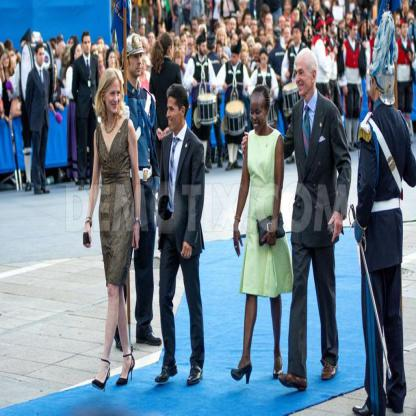face: (296, 62, 313, 96), (251, 98, 267, 132), (106, 80, 121, 114), (168, 97, 182, 132), (129, 53, 144, 77), (84, 36, 91, 54), (109, 52, 116, 67), (149, 33, 156, 48), (181, 35, 188, 50), (219, 30, 226, 45), (169, 43, 175, 60), (38, 50, 45, 64), (200, 42, 207, 56), (294, 30, 301, 44), (10, 51, 16, 67), (245, 15, 252, 28), (352, 25, 359, 38), (306, 29, 313, 42), (231, 18, 237, 33), (76, 47, 82, 61), (52, 64, 58, 78), (4, 54, 10, 68), (160, 29, 167, 41), (252, 20, 258, 34), (280, 16, 286, 30), (92, 45, 98, 58), (99, 39, 105, 52), (232, 52, 238, 65), (261, 53, 267, 66), (260, 30, 266, 43), (267, 15, 273, 28), (286, 1, 292, 14), (403, 24, 409, 37), (373, 23, 379, 36), (347, 15, 353, 27), (362, 23, 368, 35), (189, 38, 194, 52), (98, 58, 104, 69), (294, 10, 300, 21), (249, 42, 254, 55), (331, 21, 336, 34), (396, 13, 401, 26), (104, 45, 109, 57), (58, 36, 64, 46), (176, 55, 181, 67), (217, 44, 223, 54), (193, 21, 198, 33), (242, 54, 248, 64), (255, 49, 260, 61), (314, 2, 320, 12), (403, 2, 409, 12), (267, 27, 273, 37), (61, 48, 66, 59), (227, 22, 232, 33), (233, 35, 238, 46), (286, 22, 291, 33), (322, 25, 327, 36), (285, 30, 290, 41), (267, 46, 273, 55), (141, 26, 146, 36), (217, 28, 222, 38), (70, 39, 74, 51), (227, 39, 231, 51), (201, 17, 206, 26), (239, 35, 244, 44), (356, 13, 361, 21), (309, 1, 313, 6)
